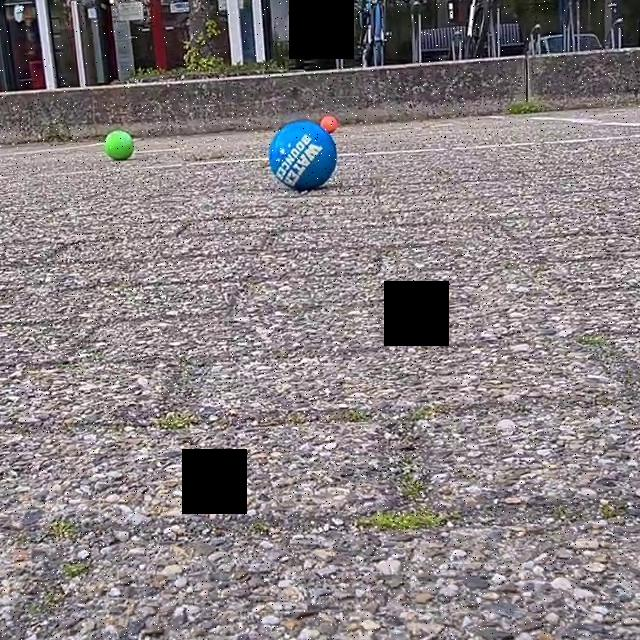ball: (102, 127, 136, 165), (317, 113, 338, 133)
